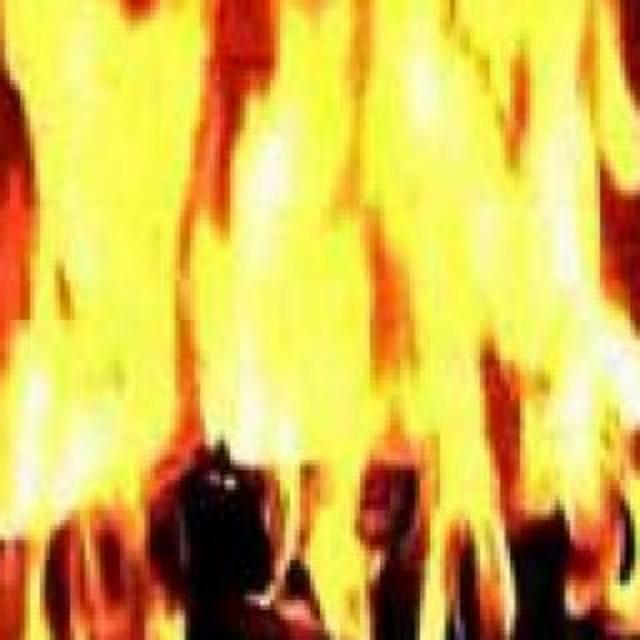fire: (0, 0, 640, 510)
